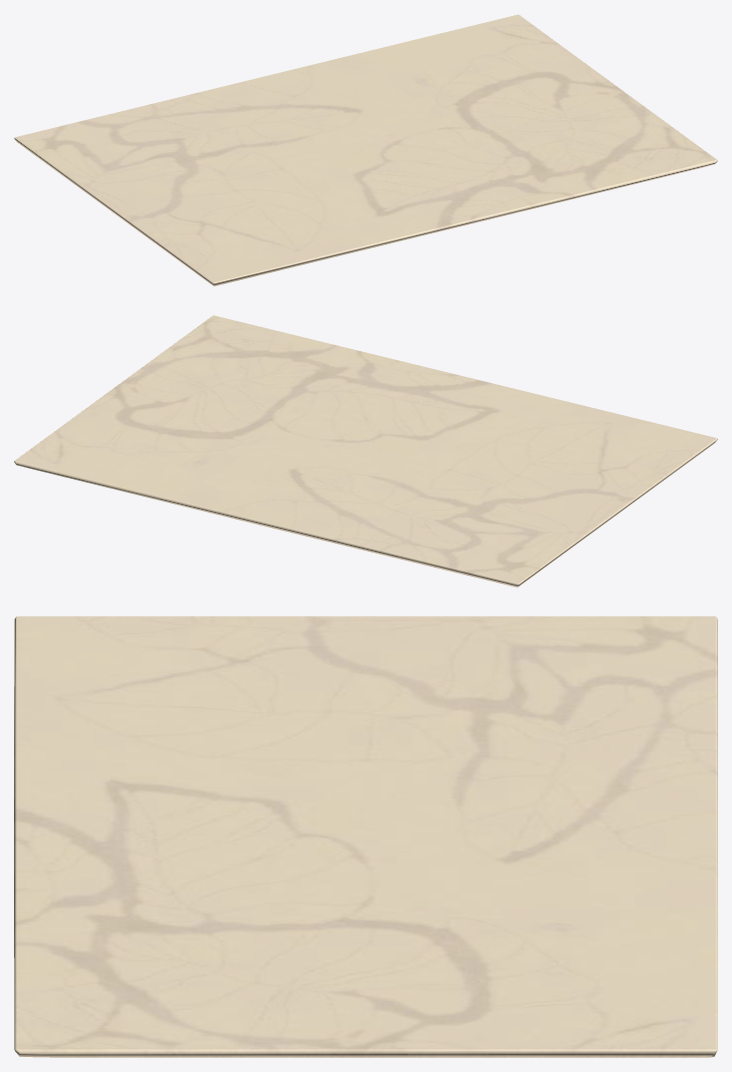
The model's file is 02 - PELARKÖRSBÄR Rug, low pile - light beigeleaf pattern 133x195 cm.glb.
3 views of the same model, one above another, from view 1: azimuth 30°, elevation 25°; view 2: azimuth 150°, elevation 25°; view 3: azimuth 270°, elevation 25° (orthographic). The views are drawn at different scales.
Visible parts, largest first — view 1: ASY_ART_90623103_S01_NV01; view 2: ASY_ART_90623103_S01_NV01; view 3: ASY_ART_90623103_S01_NV01.
Part boxes in pixels (x1=…): ASY_ART_90623103_S01_NV01: x1=14, y1=14, x2=717, y2=286; ASY_ART_90623103_S01_NV01: x1=14, y1=315, x2=717, y2=587; ASY_ART_90623103_S01_NV01: x1=14, y1=616, x2=717, y2=1057.
Bounding box in the file's own units: 1.97 × 0.0196 × 1.35.
Materials: 1 (1 with a texture image).
